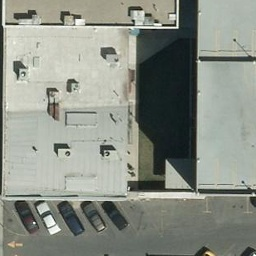car: (15, 200, 40, 233), (35, 202, 60, 235), (59, 201, 84, 234), (82, 201, 107, 234), (102, 200, 127, 232)
